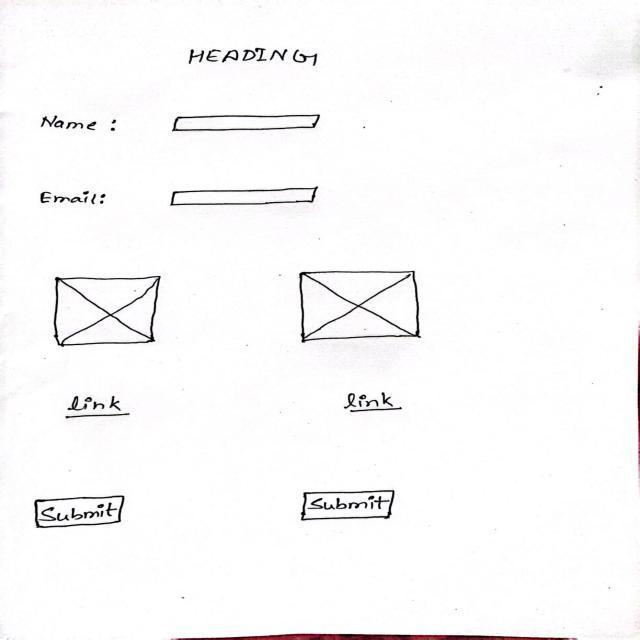textbox: (160, 107, 326, 139), (159, 183, 326, 210)
